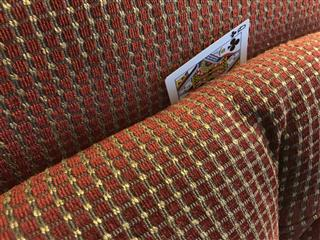QueenOfClubs: (163, 18, 250, 105)
